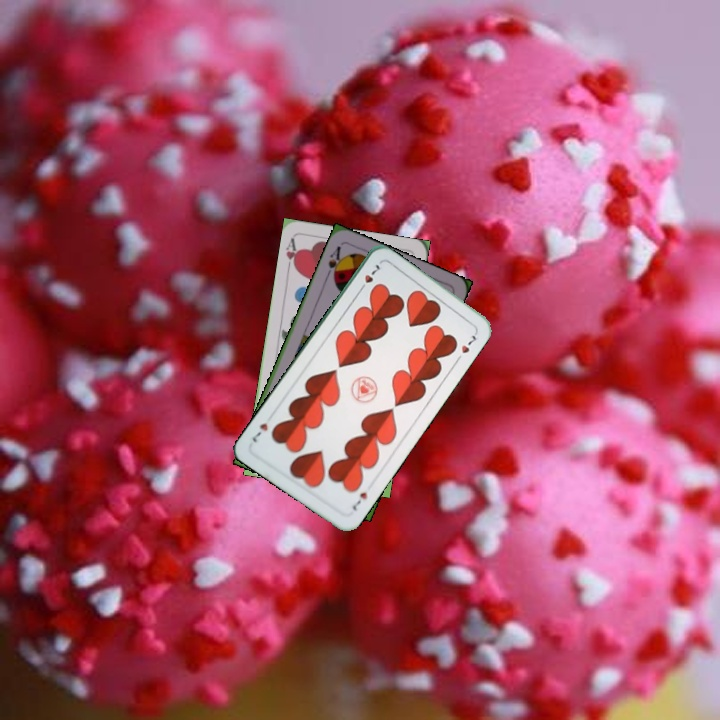H7: (355, 260, 384, 295), (348, 488, 370, 513)
HA: (282, 234, 302, 275)
SA: (322, 242, 346, 283)
